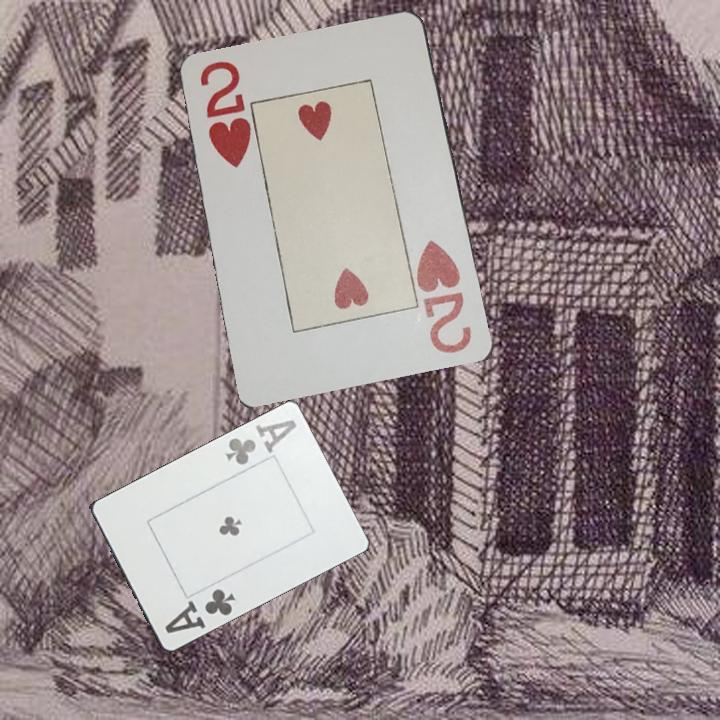2h: (413, 236, 475, 357), (197, 58, 252, 172)
Ac: (221, 416, 300, 469), (161, 585, 239, 637)
